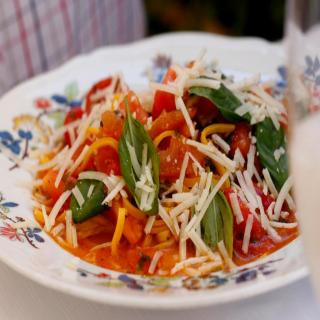Salad: (0, 44, 302, 282)
